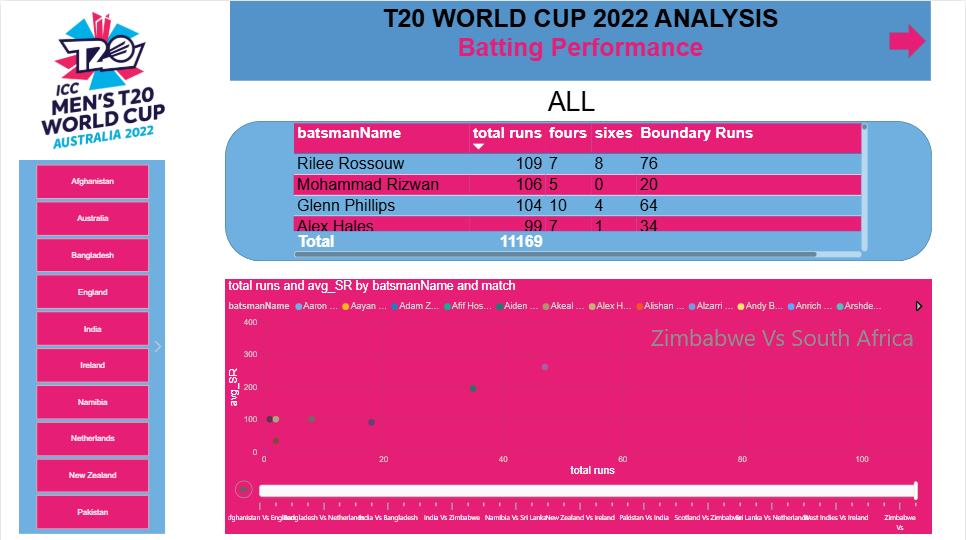

The dashboard page shown, as its layout file describes it:
{"tool":"powerbi","page":{"name":"Batting Performance","canvas":[1440,831],"ordinal":1},"visuals":[{"type":"shape","box":[333.8,178.5,1055.4,209.2],"z":0},{"type":"textbox","box":[342.3,0,1046.2,119.2],"z":1000},{"type":"image","box":[0,0,305.8,236.5],"z":2000},{"type":"shape","box":[1325,32.7,55.8,53.8],"z":3000},{"type":"tableEx","fields":{"Values":["batting_summary.batsmanName","measures table.total runs","batting_summary.fours","batting_summary.sixes","batting_summary.Boundary Runs"]},"box":[431.7,178.3,866.7,210],"z":4000},{"type":"scatterChart","fields":{"X":["measures table.total runs"],"Y":["measures table.avg_SR"],"Series":["batting_summary.batsmanName"],"Play":["batting_summary.match"]},"box":[333.8,415.4,1055.4,380],"z":5000},{"type":"slicer","fields":{"Values":["batting_summary.teamInnings"]},"box":[26.7,236.7,218.3,558.3],"z":6000},{"type":"card","fields":{"Values":["measures table.Selected team"]},"box":[501.7,120,700,58.3],"z":7000}]}

Visuals, with their boxes in screenshot pixels (x1, y1, x2, y2):
shape: (x1=225, y1=119, x2=927, y2=258)
textbox: (x1=230, y1=0, x2=926, y2=79)
image: (x1=3, y1=0, x2=206, y2=157)
shape: (x1=884, y1=22, x2=921, y2=58)
tableEx - batting_summary.batsmanName x measures table.total runs: (x1=290, y1=119, x2=867, y2=258)
scatterChart - measures table.total runs x measures table.avg_SR: (x1=225, y1=276, x2=927, y2=529)
slicer - batting_summary.teamInnings: (x1=20, y1=158, x2=166, y2=529)
card - measures table.Selected team: (x1=336, y1=80, x2=802, y2=119)
